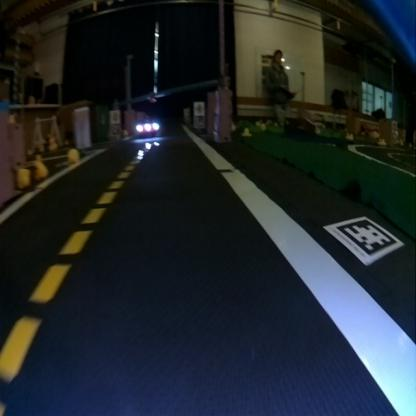Duckie: (31, 158, 46, 177), (67, 149, 79, 163)
Duckiebot: (133, 120, 160, 136)
QR code: (325, 215, 404, 264), (194, 115, 202, 128)
